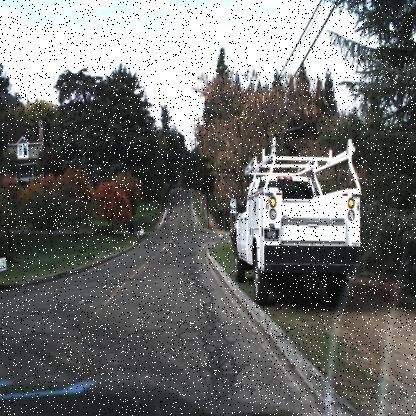car: (230, 133, 361, 306), (232, 143, 362, 305)
